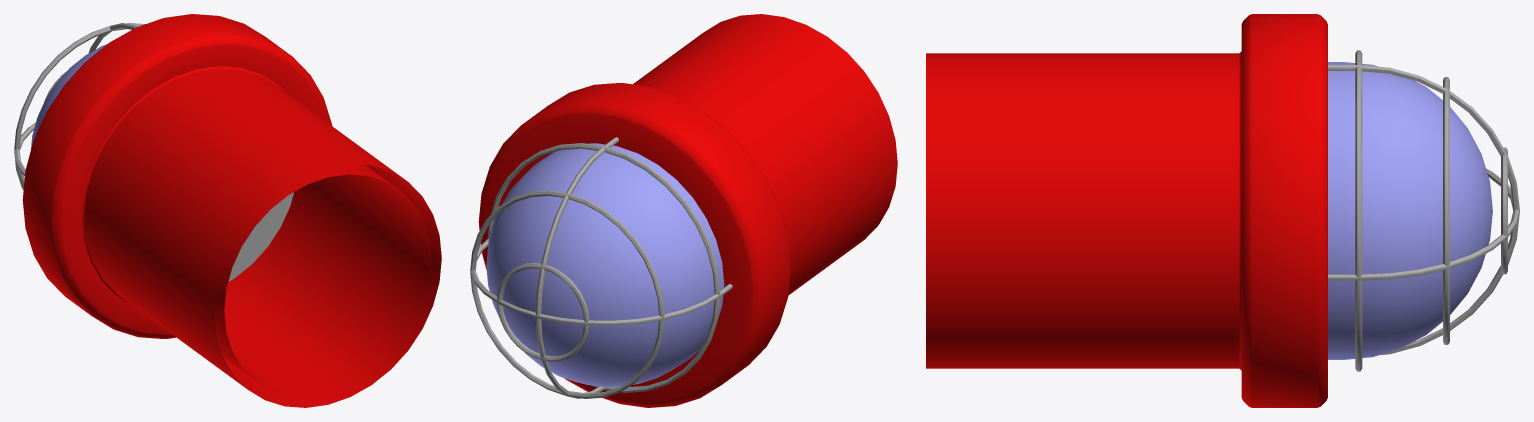
Rendered from dockingLamp.fbx.
3 renders of one model, left to right at view 1: azimuth 30°, elevation 25°; view 2: azimuth 150°, elevation 25°; view 3: azimuth 270°, elevation 25°, orthographic. The views are drawn at different scales.
Visible parts, largest first — view 1: dockingLamp; view 2: dockingLamp; view 3: dockingLamp.
Boxes of the visible parts, left/top/right/bottom form: dockingLamp: left=14, top=14, right=441, bottom=407; dockingLamp: left=470, top=14, right=897, bottom=407; dockingLamp: left=926, top=14, right=1519, bottom=407.
Bounding box in the file's own units: 25 × 25 × 37.65.
